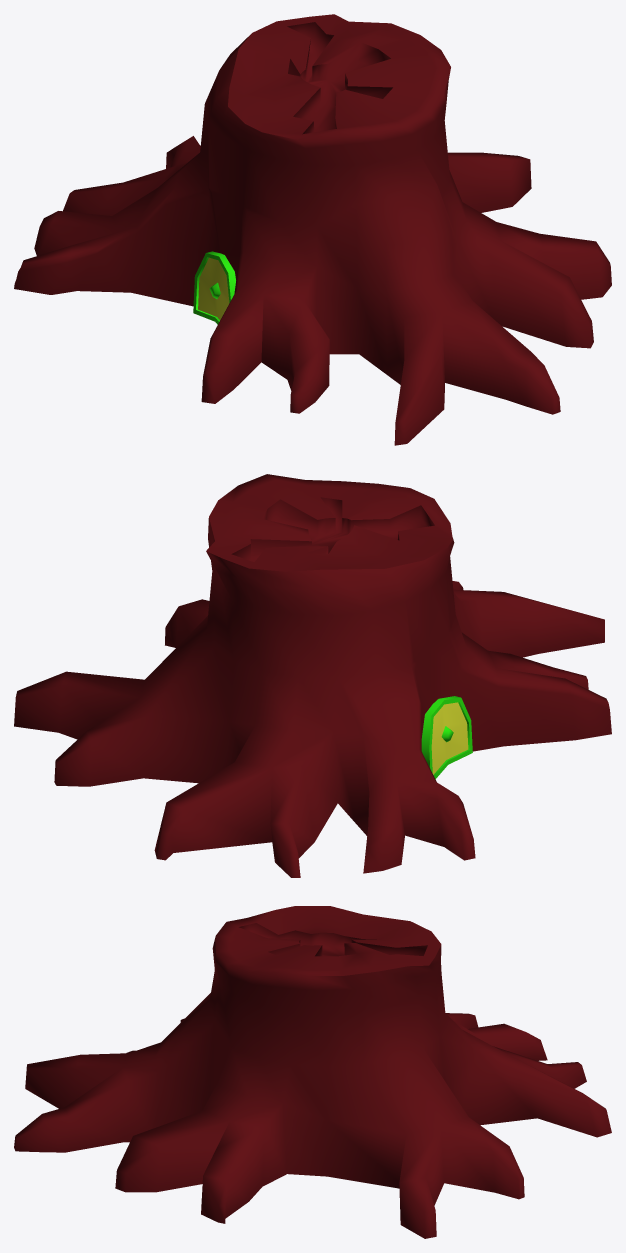
File: Tree Stump House.fbx
The picture shows the model from 3 angles, top to bottom: view 1: azimuth 30°, elevation 25°; view 2: azimuth 150°, elevation 25°; view 3: azimuth 270°, elevation 25°; orthographic projection. The views are drawn at different scales.
Parts seen in each view (by area): view 1: TreeTrunk; view 2: TreeTrunk; view 3: TreeTrunk.
Boxes of the visible parts, left/top/right/bottom form: TreeTrunk: left=14, top=14, right=611, bottom=445; TreeTrunk: left=14, top=474, right=611, bottom=877; TreeTrunk: left=14, top=906, right=611, bottom=1238.
Size of the model in its own units: 1197 by 533 by 1456.
